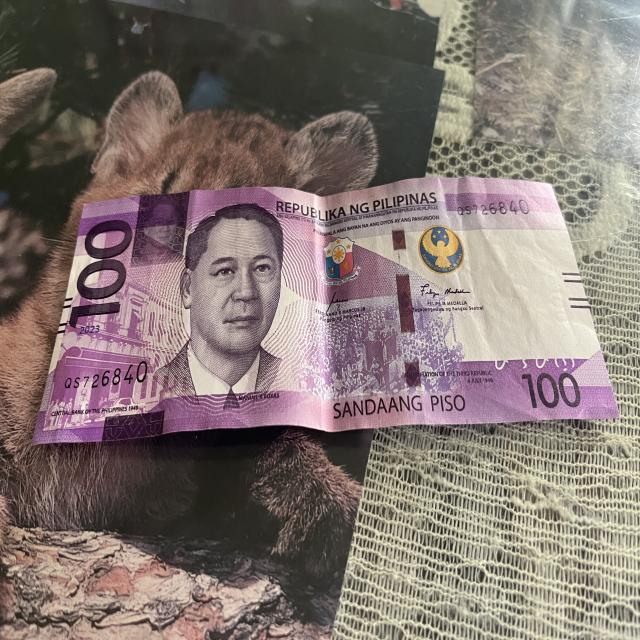concealed_value: (131, 192, 187, 264)
security_thread: (385, 181, 427, 424)
see_through_mark: (490, 344, 582, 376)
serial_number: (63, 359, 152, 388), (454, 195, 533, 218)
value: (69, 210, 133, 326)
watermark: (463, 230, 563, 354)
